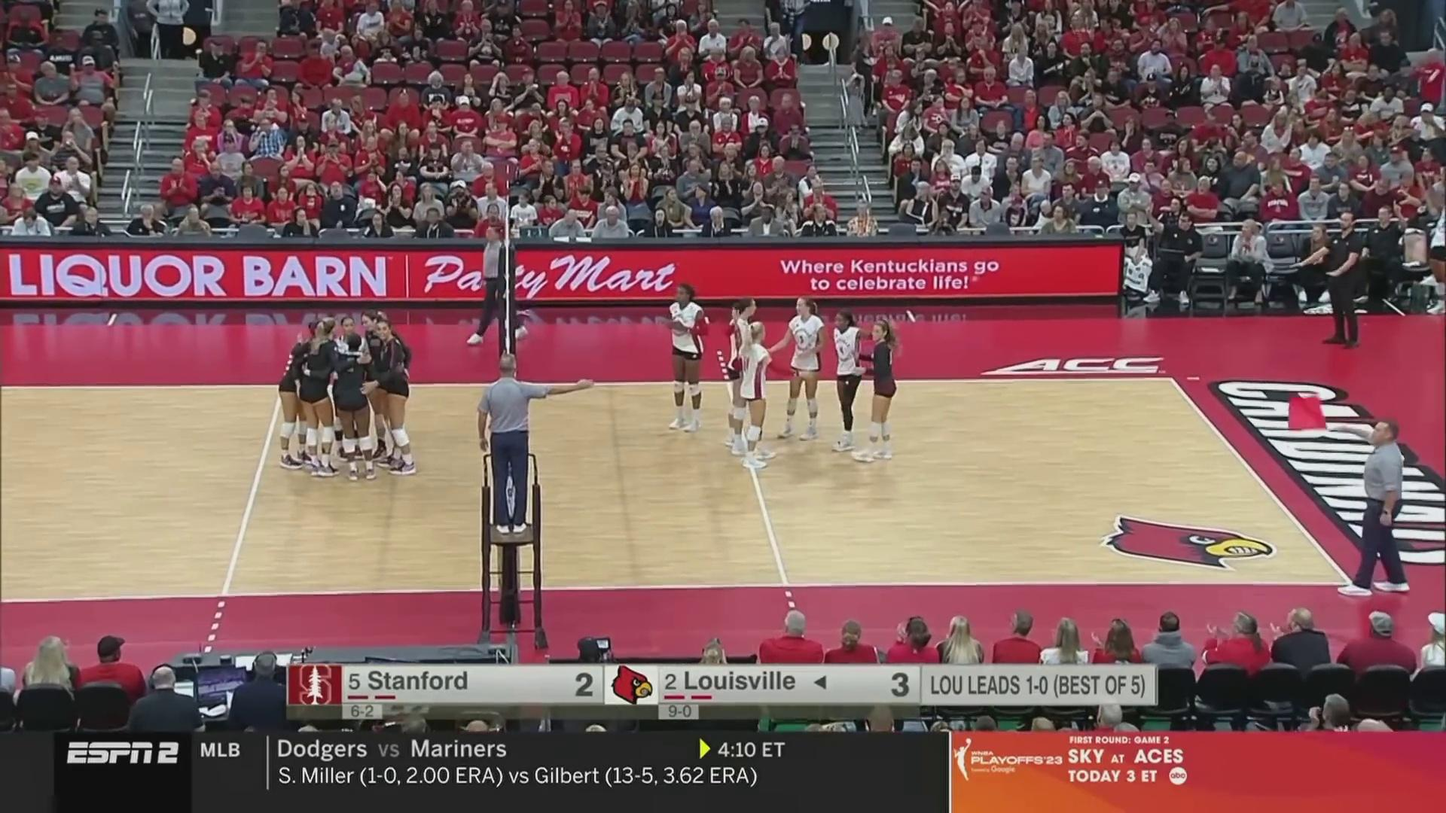player: (292, 316, 360, 473), (760, 297, 829, 441), (320, 333, 386, 480), (732, 322, 793, 472), (369, 320, 420, 473), (853, 318, 898, 464), (360, 308, 402, 464), (665, 284, 707, 433), (831, 310, 874, 450), (726, 297, 763, 458), (278, 327, 316, 465), (334, 315, 366, 458)
refree: (1316, 416, 1411, 593), (477, 357, 574, 529), (465, 227, 528, 343)
